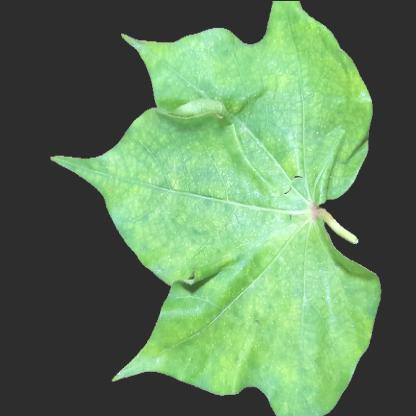curl_stage1: (205, 281, 331, 385), (261, 91, 334, 191), (248, 220, 321, 282), (112, 136, 166, 216), (261, 34, 335, 92), (162, 228, 238, 280), (164, 126, 223, 188), (147, 310, 201, 365), (330, 300, 370, 361)
